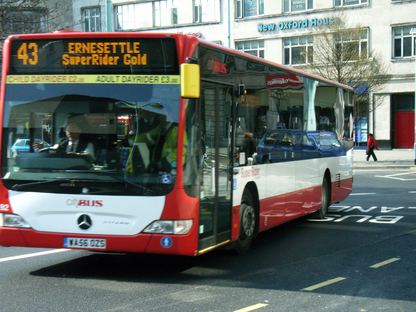bus: (0, 31, 354, 255)
